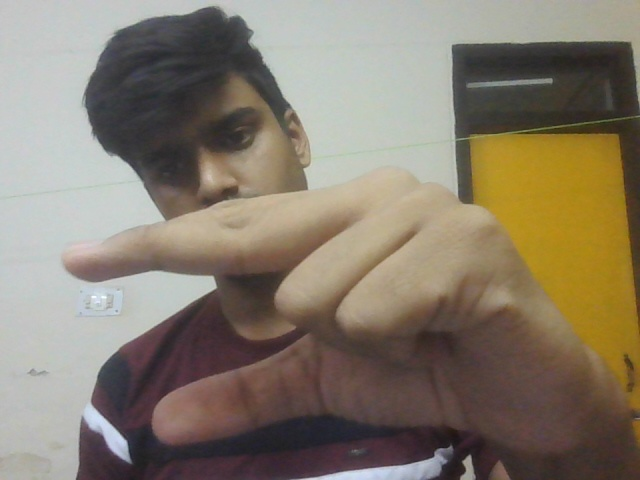no: (49, 155, 636, 462)
